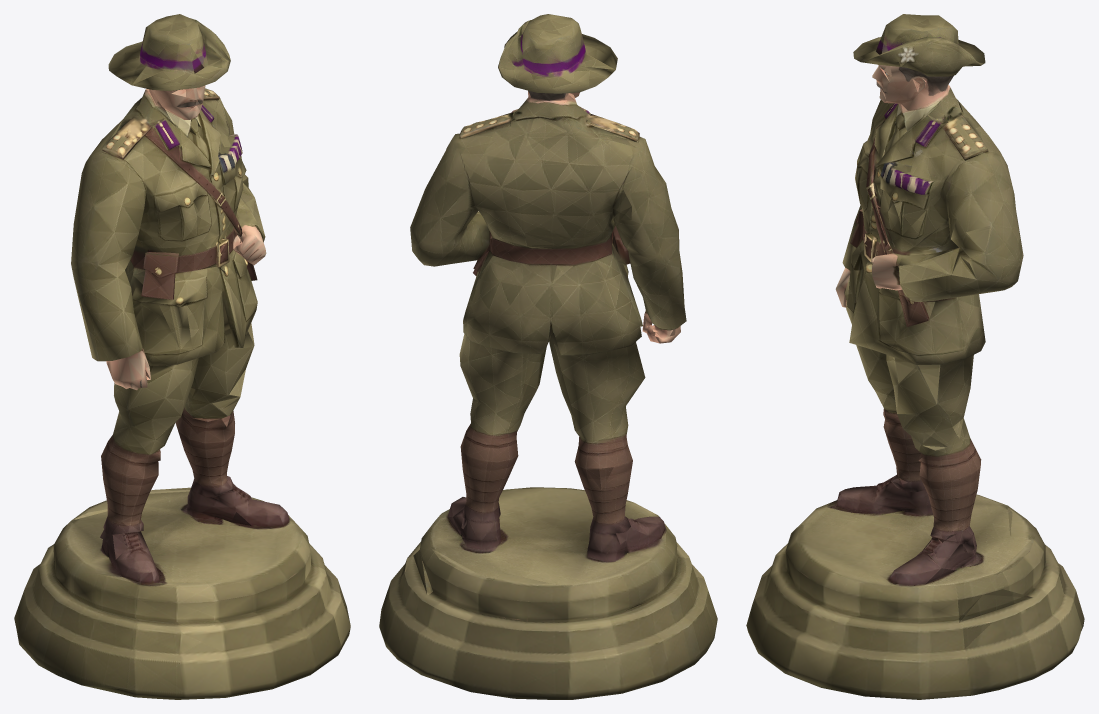
The model's file is anzac_king.glb.
3 views of the same model, side by side, from view 1: azimuth 30°, elevation 25°; view 2: azimuth 150°, elevation 25°; view 3: azimuth 270°, elevation 25° (orthographic).
Size of the model in its own units: 1.01 by 2 by 1.01.
1 material, 1 textured.
